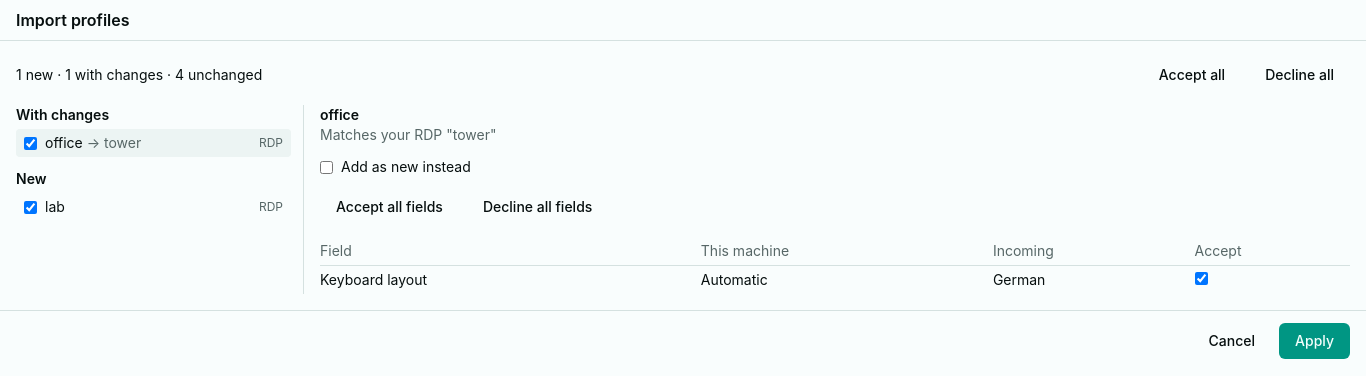
an RDP profile is labelled RDP in the list and in its details
Check: the text "Matches your RDP \"tower\"" is shown, box x1=320 y1=126 x2=496 y2=143
Check: the text "RDP" is shown 2 times, box x1=259 y1=135 x2=283 y2=151; x1=259 y1=199 x2=283 y2=215
Click the button "lab".
click(148, 207)  # box x1=45 y1=197 x2=251 y2=217
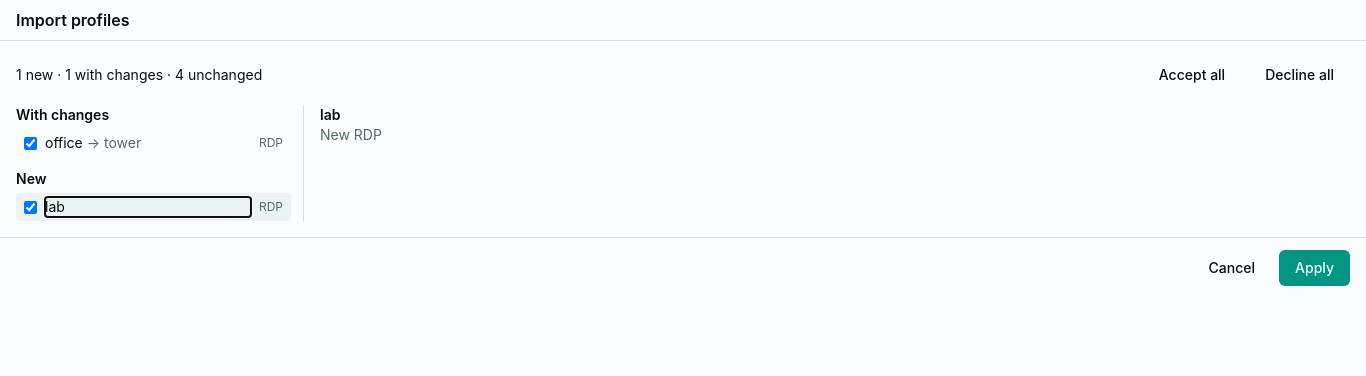
Check: the text "New RDP" is shown, box x1=320 y1=126 x2=382 y2=143
